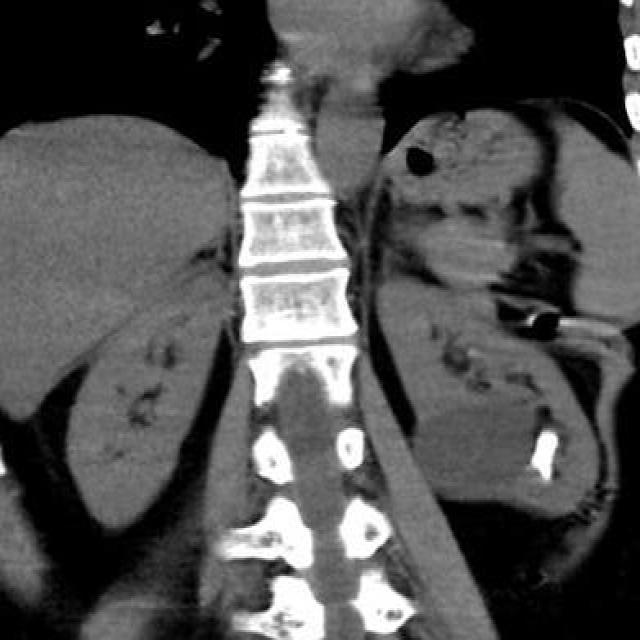Tas_Var: (525, 428, 562, 488)
